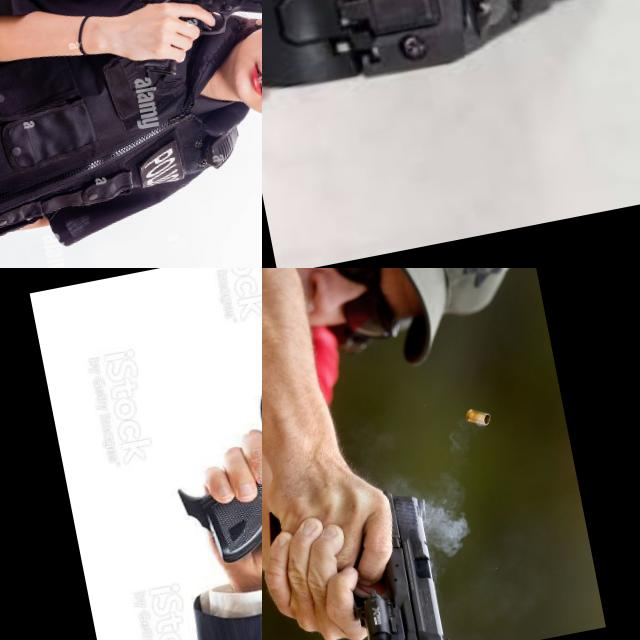handgun: (262, 0, 640, 118), (131, 268, 262, 574), (262, 478, 456, 640), (112, 0, 262, 90)
